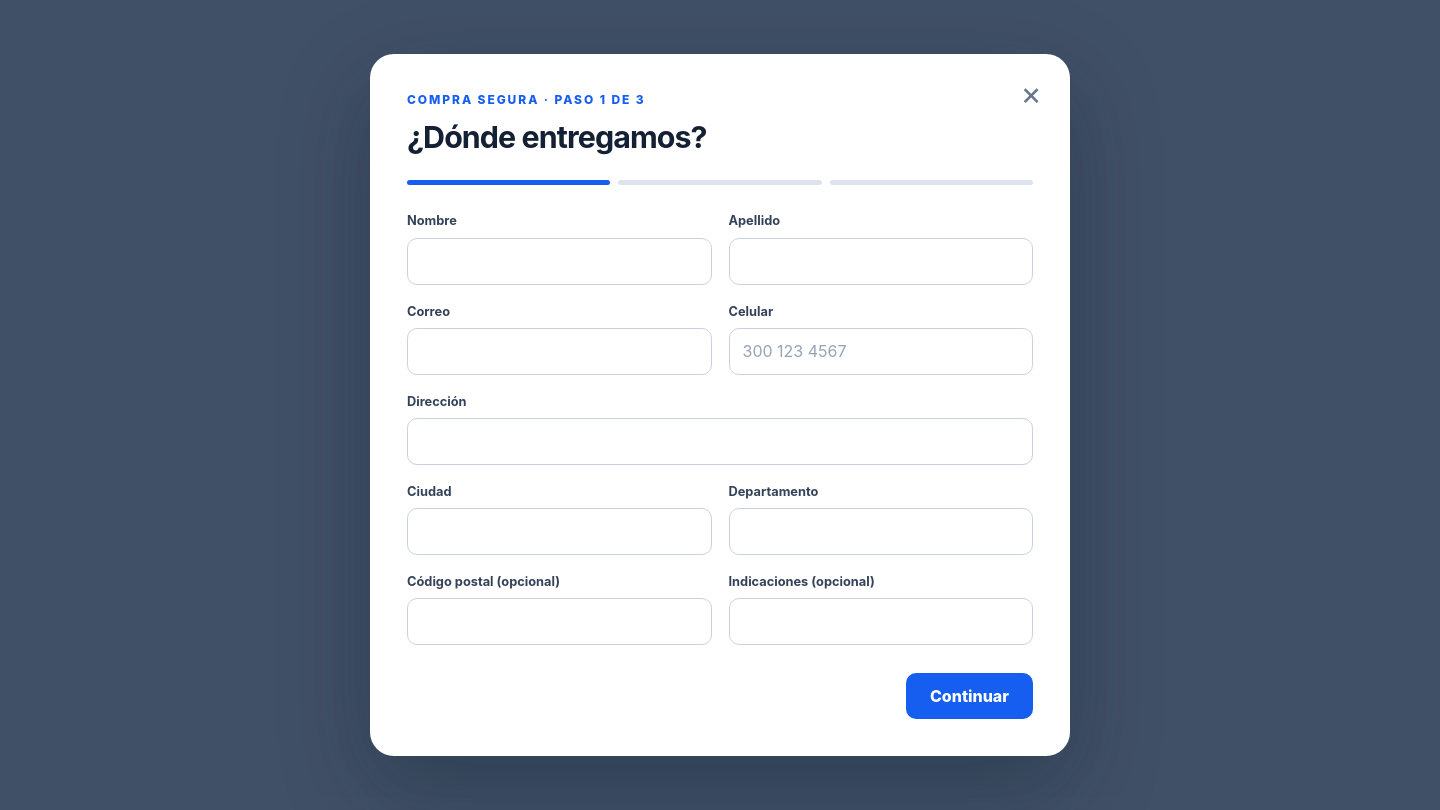
Test: CheckoutModal › validates required customer information
Click the button "Continuar" at [969, 696], box [906, 673, 1033, 719]
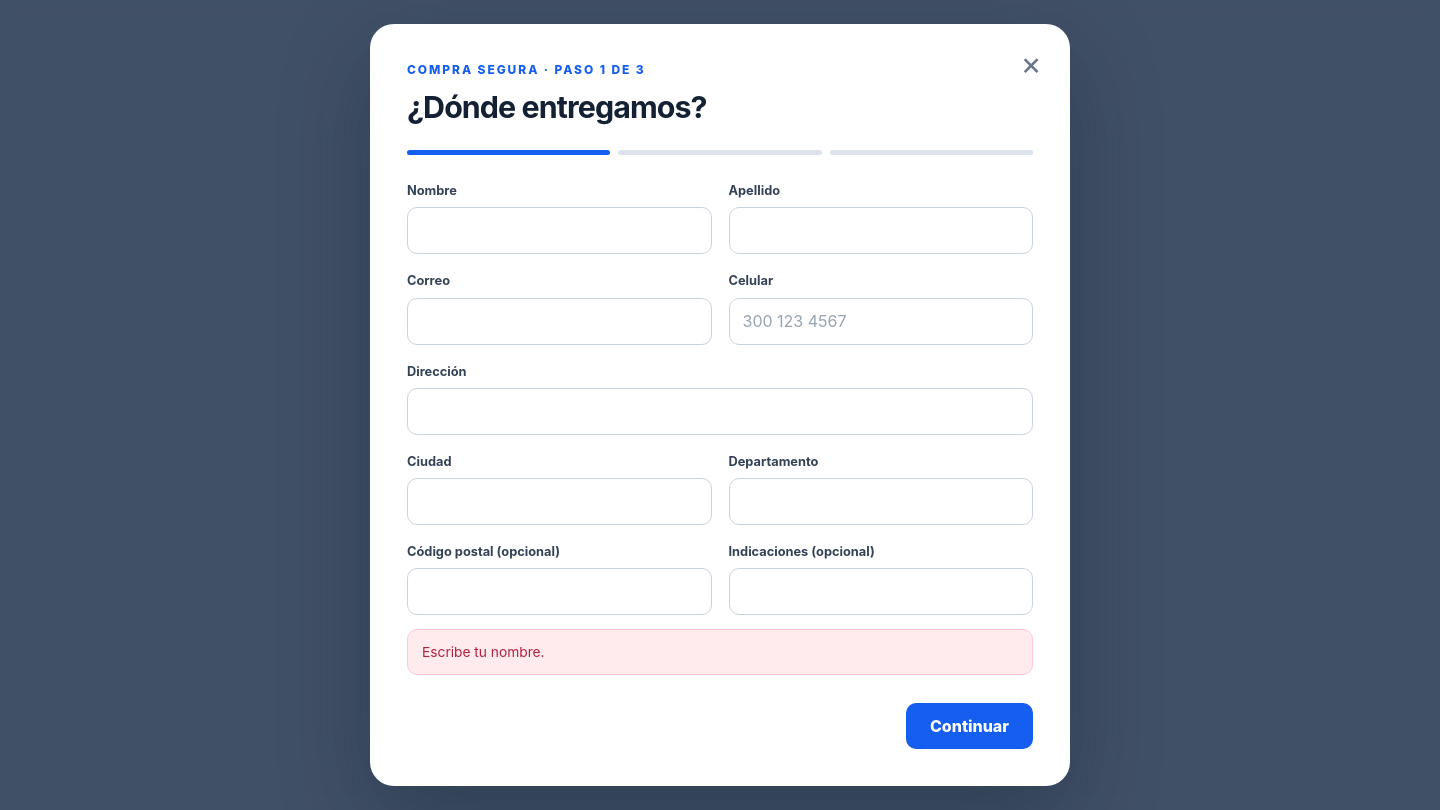
Result: the message shows "Escribe tu nombre" at [422, 644, 545, 660]
